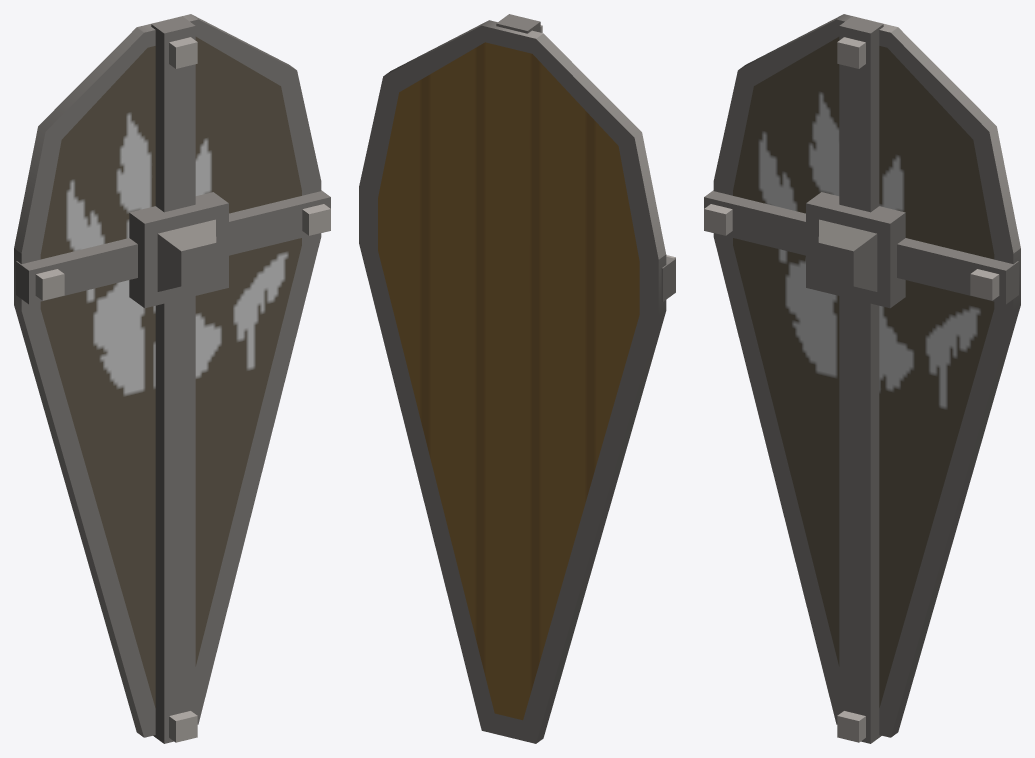
Rendered from SF_Wep_KiteShield_Symbol_010.fbx.
3 views of the same model, side by side, from view 1: azimuth 30°, elevation 25°; view 2: azimuth 150°, elevation 25°; view 3: azimuth 330°, elevation 25° (orthographic).
Visible parts, largest first — view 1: SF_Wep_KiteShield_Symbol_010; view 2: SF_Wep_KiteShield_Symbol_010; view 3: SF_Wep_KiteShield_Symbol_010.
Boxes of the visible parts, x1,y1,x2,y2 form: SF_Wep_KiteShield_Symbol_010: [14, 14, 330, 743]; SF_Wep_KiteShield_Symbol_010: [359, 14, 675, 743]; SF_Wep_KiteShield_Symbol_010: [704, 14, 1020, 743].
Bounding box in the file's own units: 0.9946 × 2.24 × 0.1992.
